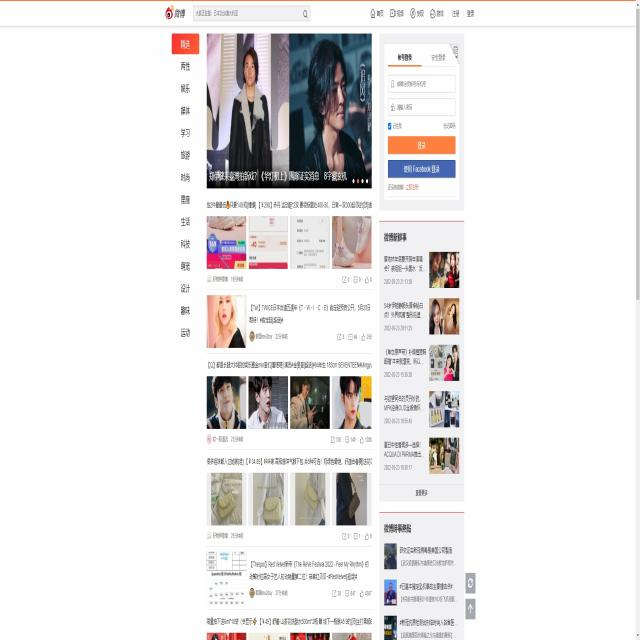menu-bar: (368, 4, 478, 23)
menu-panel: (170, 33, 201, 352)
search: (191, 3, 313, 23)
